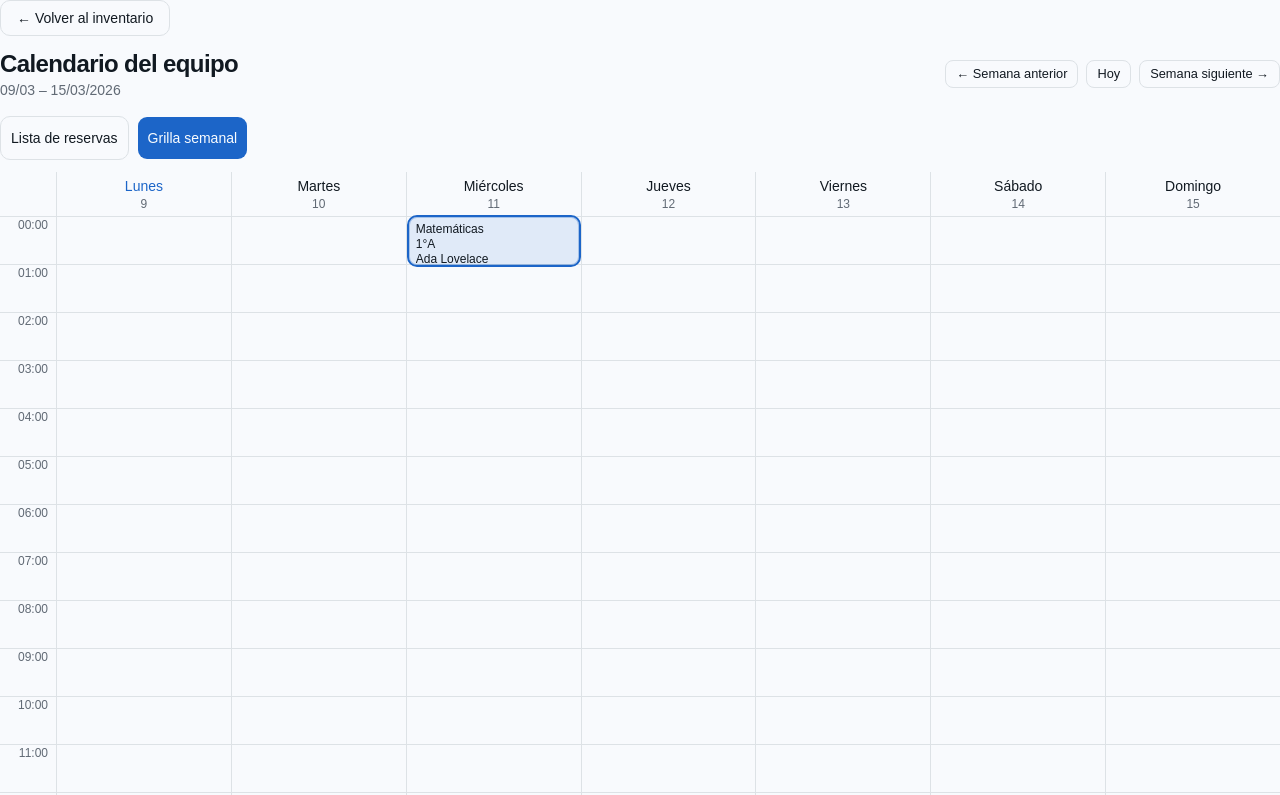
CalendarioEquipoPage › abre los detalles con teclado y muestra el horario original al cruzar medianoche
The width and height of the screenshot is (1280, 795).
Press Enter
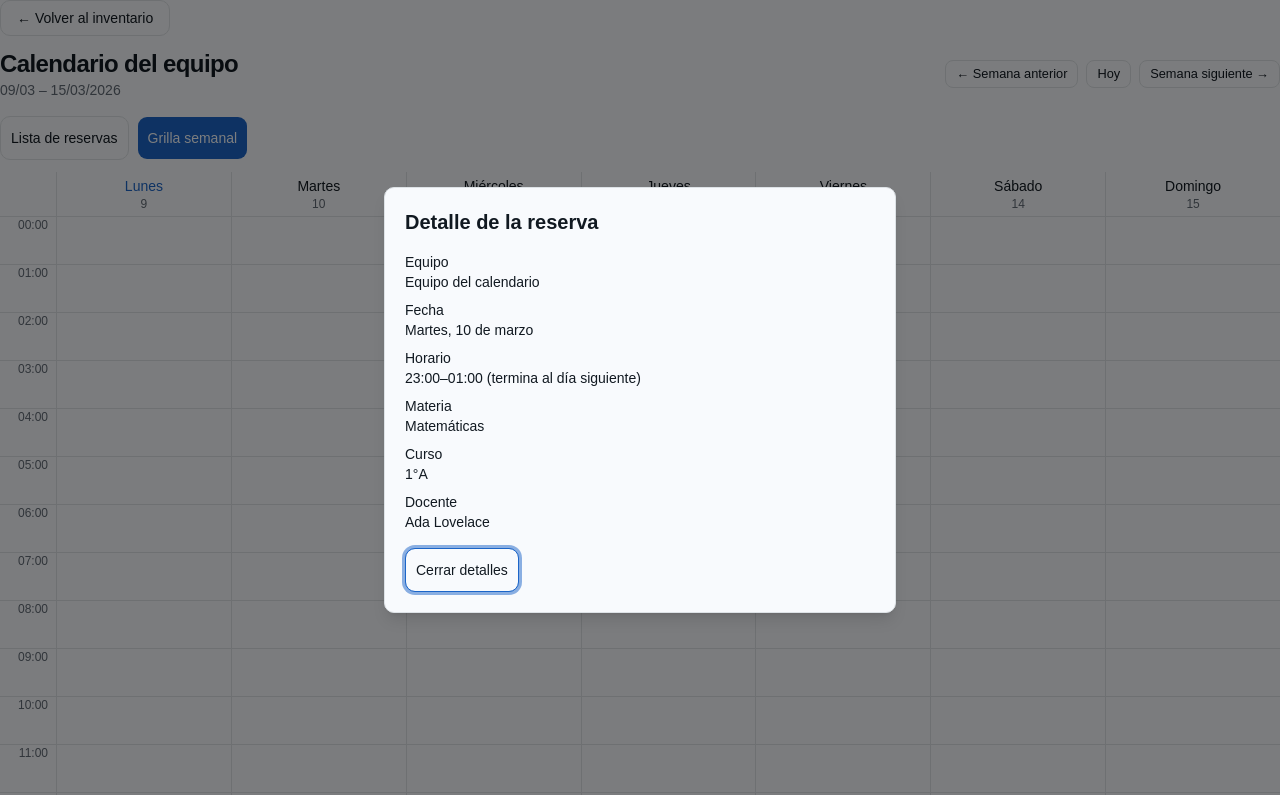
Now the dialog "Detalle de la reserva" is shown, box [384, 187, 896, 613]
Now the text "23:00–01:00 (termina al día siguiente)" is shown, box [405, 370, 641, 386]
Click the button "Cerrar detalles": (462, 570) [405, 548, 519, 592]
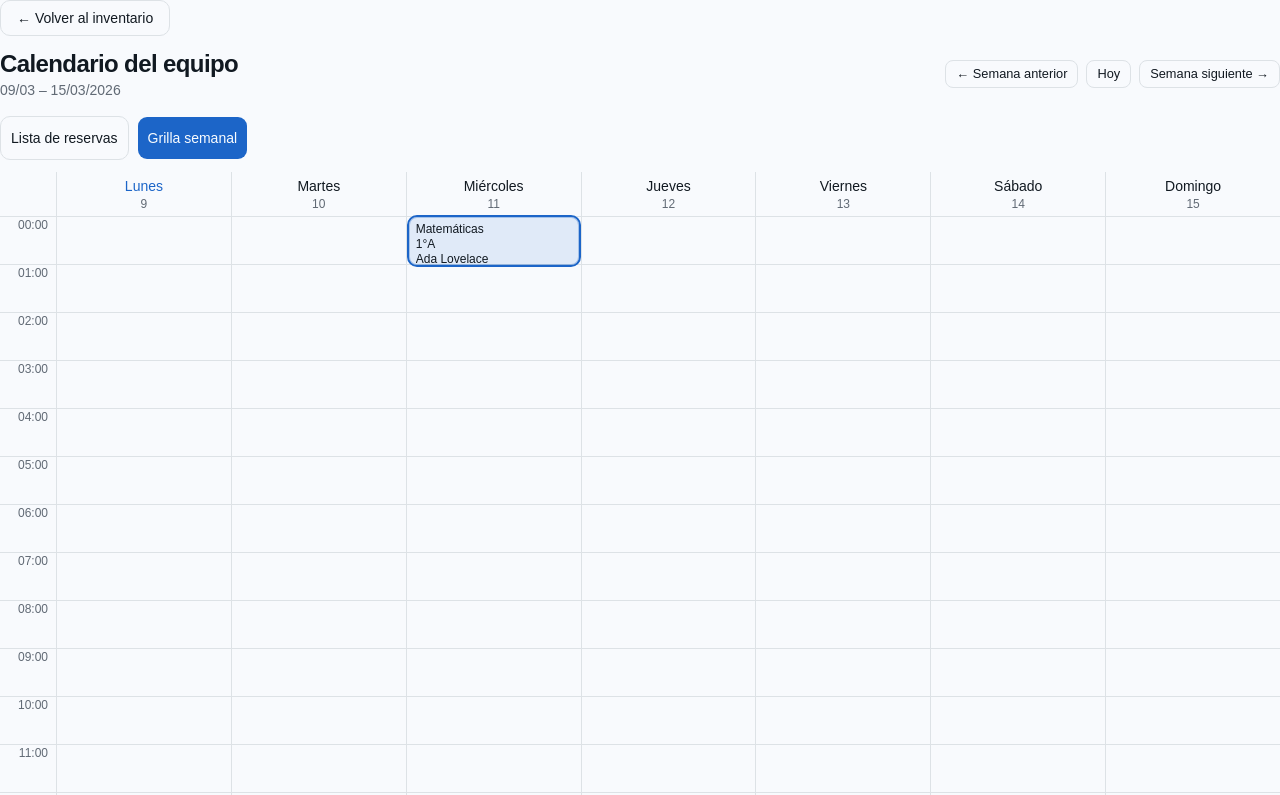
Now the dialog is gone
